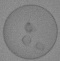small: (21, 35, 30, 45), (25, 23, 34, 32), (36, 41, 44, 51)
